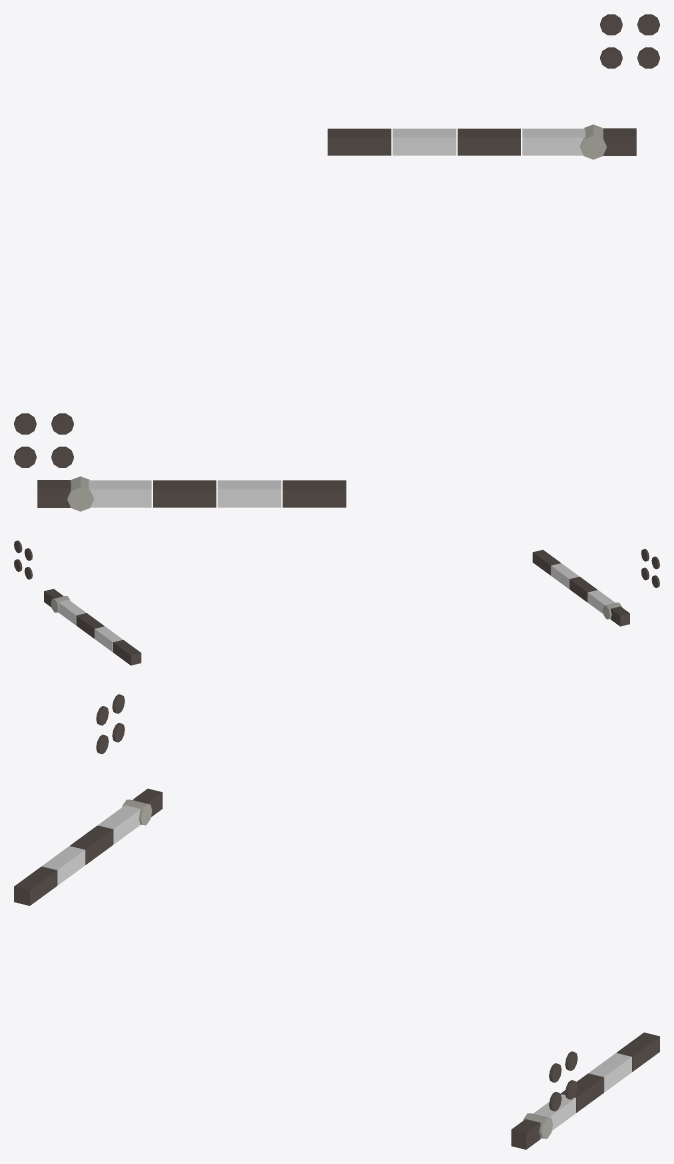
The model's file is SM_PasoNivel_60E_v1_FocosDobles_LOD1.fbx.
The picture shows the model from 3 angles, top to bottom: view 1: azimuth 30°, elevation 25°; view 2: azimuth 150°, elevation 25°; view 3: azimuth 270°, elevation 25°; orthographic projection. The views are drawn at different scales.
Visible parts, largest first — view 1: Barrera_2, Barrera_1, Luces_B, Luces_A; view 2: Barrera_2, Barrera_1, Luces_A, Luces_B; view 3: Barrera_2, Barrera_1, Luces_A, Luces_B.
Part boxes in pixels (left/top/right/bottom): Barrera_2: left=37, top=476, right=346, bottom=511; Barrera_1: left=327, top=124, right=636, bottom=159; Luces_B: left=51, top=14, right=659, bottom=467; Luces_A: left=14, top=14, right=622, bottom=467; Barrera_2: left=532, top=550, right=629, bottom=626; Barrera_1: left=44, top=589, right=141, bottom=665; Luces_A: left=24, top=548, right=659, bottom=587; Luces_B: left=14, top=540, right=649, bottom=580; Barrera_2: left=14, top=788, right=162, bottom=905; Barrera_1: left=511, top=1032, right=659, bottom=1149; Luces_A: left=112, top=694, right=577, bottom=1099; Luces_B: left=96, top=706, right=561, bottom=1111.
Size of what is drawn, in the model's own units: 15.52 by 1.91 by 11.25.
